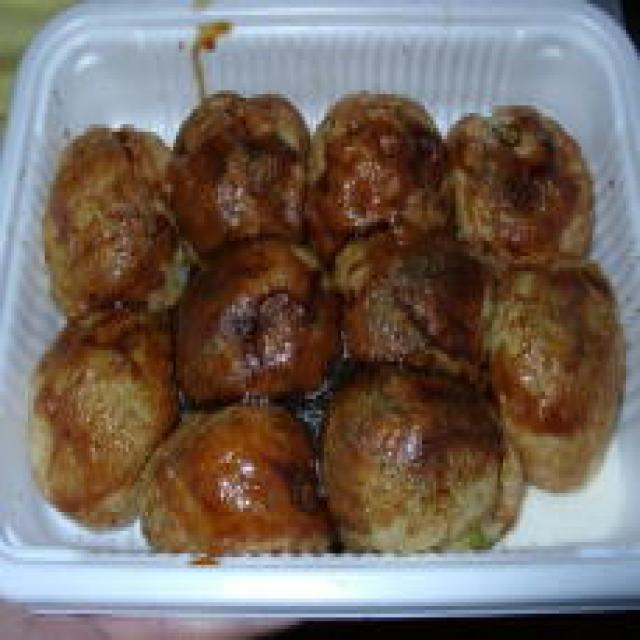炸货点心: (0, 68, 640, 572)
